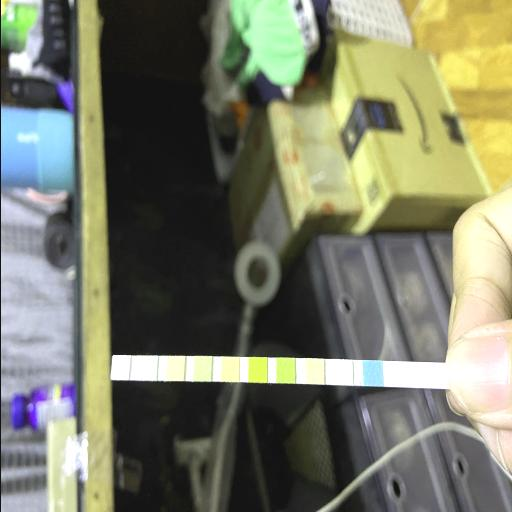Bilirubin: (333, 360, 352, 386)
Blood: (248, 358, 266, 382)
Glucose: (362, 360, 382, 386)
Ketone: (304, 360, 324, 384)
Leukocytes: (112, 356, 127, 380)
Nitrite: (140, 356, 156, 380)
Protein: (194, 357, 210, 381)
SpGravity: (276, 358, 294, 384)
Urobilinogen: (166, 356, 182, 380)
pH: (220, 358, 238, 382)
strip: (109, 355, 448, 389)
